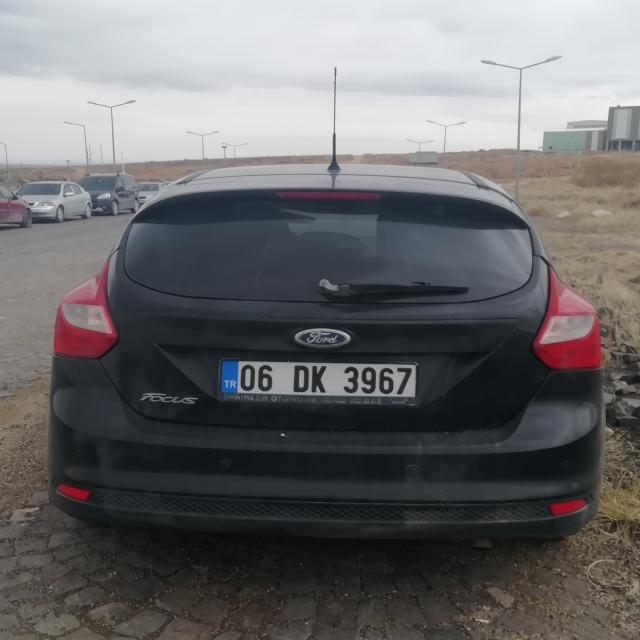license_plate: (220, 360, 418, 400)
